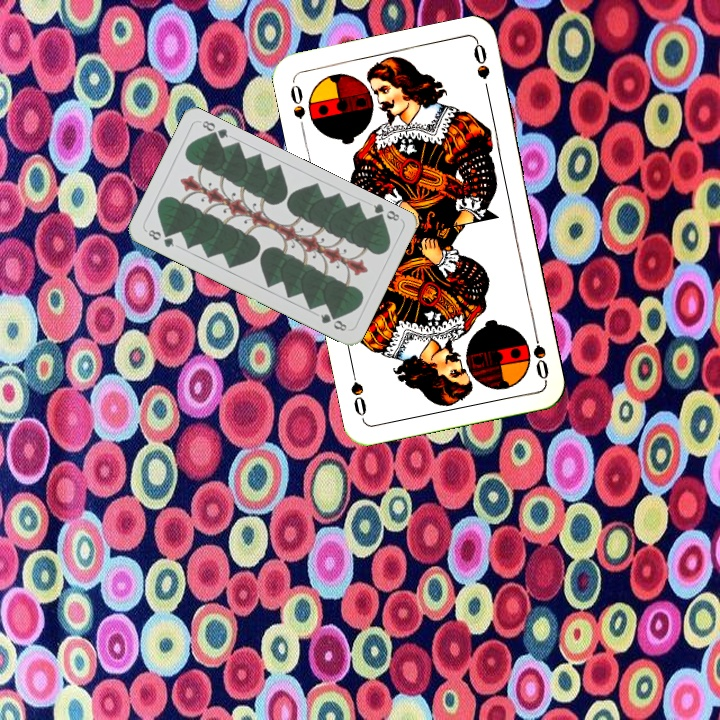G8: (144, 225, 177, 250), (369, 200, 402, 225)
SO: (529, 324, 552, 382), (286, 78, 308, 136)
